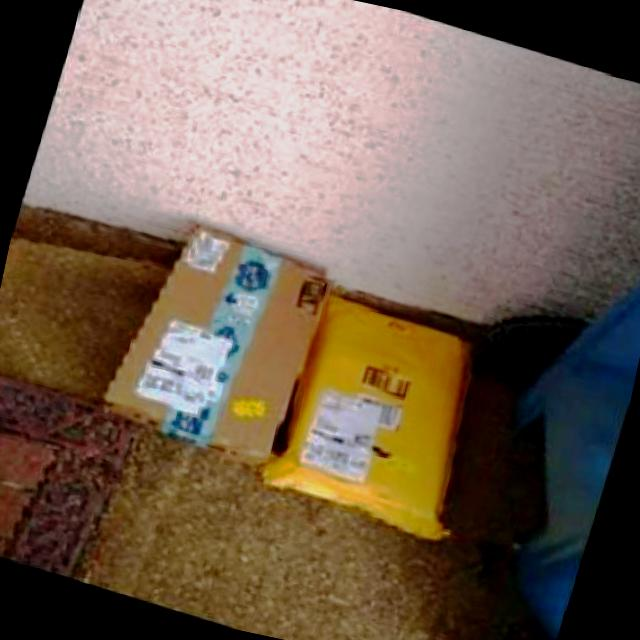Box: (257, 292, 515, 552), (95, 205, 341, 476)
